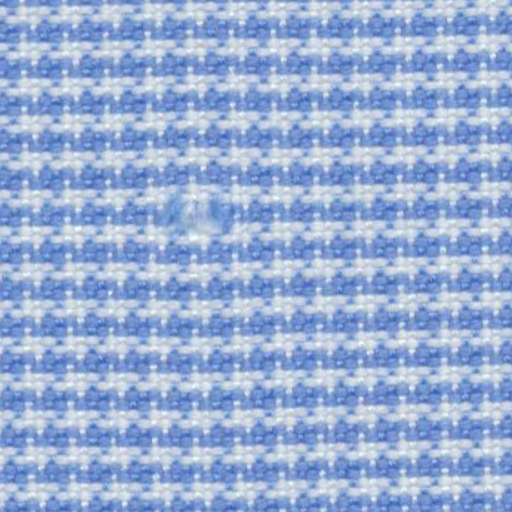PoDong: (142, 182, 262, 258)
